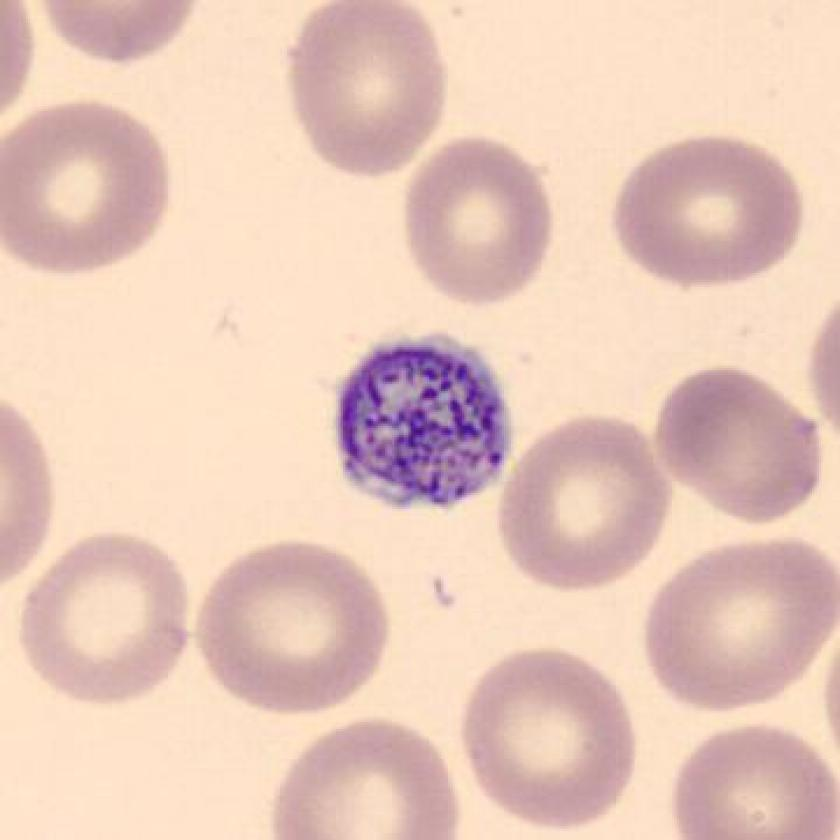platelets: (335, 327, 526, 517)
